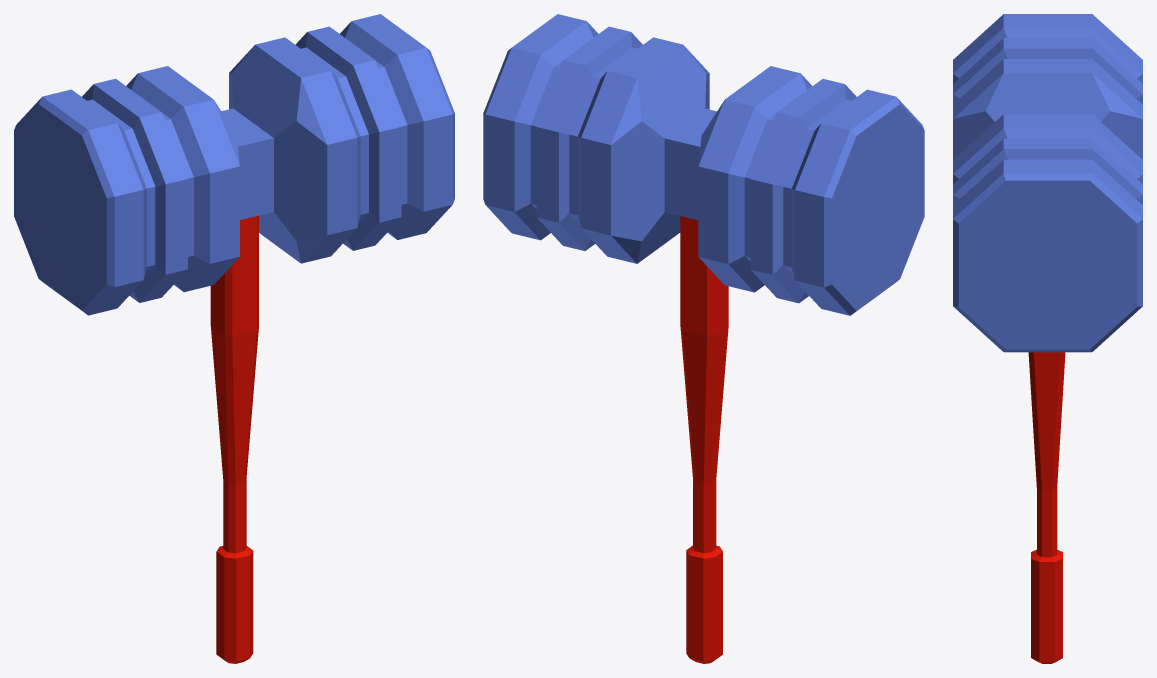
The model's file is LAUGH_TRACK_CLOWN_HAMMER.fbx.
3 views of the same model, side by side, from view 1: azimuth 30°, elevation 25°; view 2: azimuth 150°, elevation 25°; view 3: azimuth 270°, elevation 25° (orthographic). The views are drawn at different scales.
Visible parts, largest first — view 1: HAMMER_HEAD.001, HAMMER_HANDLE.001; view 2: HAMMER_HEAD.001, HAMMER_HANDLE.001; view 3: HAMMER_HEAD.001, HAMMER_HANDLE.001.
Boxes of the visible parts, box(x1,y1,x2,y2) form: HAMMER_HEAD.001: box(14, 14, 454, 315); HAMMER_HANDLE.001: box(210, 215, 258, 663); HAMMER_HEAD.001: box(483, 14, 924, 315); HAMMER_HANDLE.001: box(680, 216, 728, 663); HAMMER_HEAD.001: box(953, 14, 1142, 352); HAMMER_HANDLE.001: box(1028, 352, 1065, 663).
Bounding box in the file's own units: 988 × 1591 × 484.
